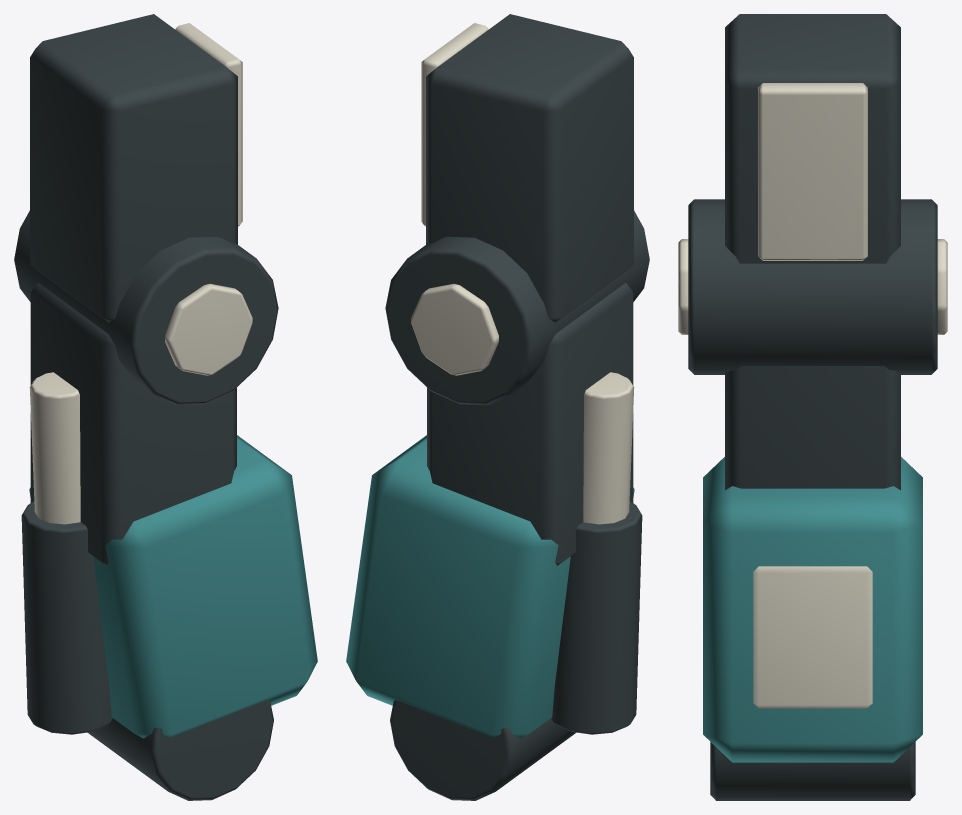
Rendered from SM_CP_RobotLeg.fbx.
3 renders of one model, left to right at view 1: azimuth 30°, elevation 25°; view 2: azimuth 150°, elevation 25°; view 3: azimuth 270°, elevation 25°, orthographic. The views are drawn at different scales.
Visible parts, largest first — view 1: SM_CP_RobotLeg; view 2: SM_CP_RobotLeg; view 3: SM_CP_RobotLeg.
Boxes of the visible parts, <box> form: SM_CP_RobotLeg: <box>14,14,317,800</box>; SM_CP_RobotLeg: <box>346,14,649,800</box>; SM_CP_RobotLeg: <box>678,14,947,800</box>.
Bounding box in the file's own units: 0.2026 × 0.184 × 0.555.
